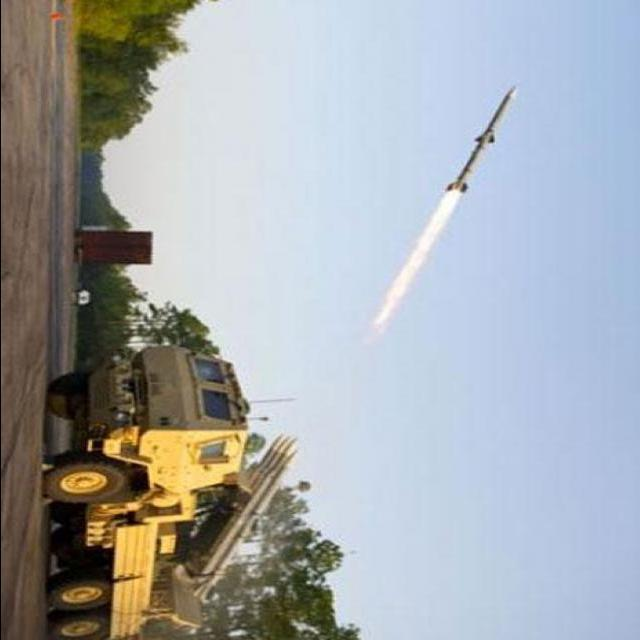missile: (440, 86, 523, 198)
